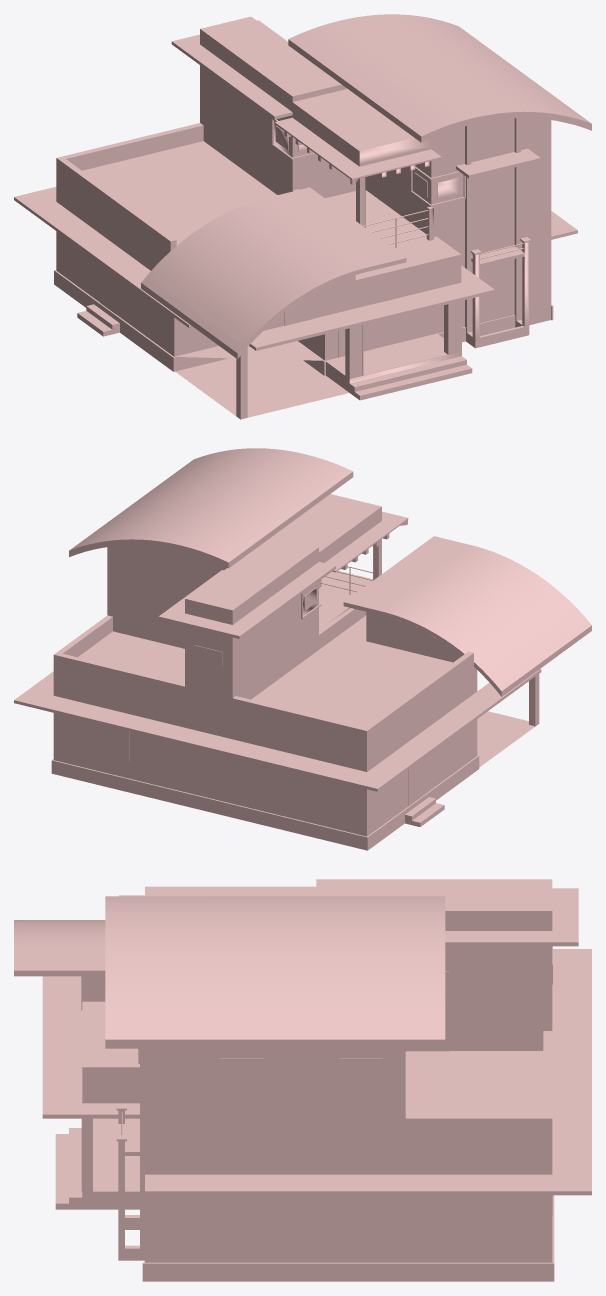
Rendered from houseobj.gltf.
3 renders of one model, top to bottom at view 1: azimuth 30°, elevation 25°; view 2: azimuth 150°, elevation 25°; view 3: azimuth 270°, elevation 25°, orthographic. The views are drawn at different scales.
Parts seen in each view (by area): view 1: Object01, Object02, Object06, Object54, Object03, Object88, Object93, Object78, Object87, Object14, Object76, Object38 (+30 smaller); view 2: Object03, Object06, Object01, Object02, Object54, Object43, Object97, Object88, Object78, Object76, Object38, Object87 (+12 smaller); view 3: Object02, Object03, Object06, Object43, Object38, Object54, Object40, Object88, Object72, Object95, Object01, Object90 (+20 smaller).
Part boxes in pixels (left/top/right/bottom): Object01: left=151, top=191, right=396, bottom=343; Object02: left=298, top=17, right=581, bottom=130; Object06: left=200, top=65, right=464, bottom=238; Object54: left=82, top=141, right=426, bottom=245; Object03: left=56, top=177, right=464, bottom=360; Object88: left=200, top=16, right=347, bottom=111; Object93: left=175, top=358, right=348, bottom=417; Object78: left=56, top=123, right=203, bottom=255; Object87: left=292, top=89, right=431, bottom=164; Object14: left=521, top=119, right=551, bottom=325; Object76: left=141, top=187, right=406, bottom=359; Object38: left=288, top=14, right=591, bottom=142; Object03: left=53, top=669, right=477, bottom=836; Object06: left=107, top=545, right=318, bottom=715; Object01: left=353, top=540, right=582, bottom=682; Object02: left=79, top=450, right=343, bottom=557; Object54: left=78, top=591, right=452, bottom=727; Object43: left=14, top=669, right=541, bottom=791; Object97: left=53, top=755, right=479, bottom=850; Object88: left=185, top=536, right=318, bottom=624; Object78: left=232, top=651, right=473, bottom=748; Object76: left=343, top=536, right=591, bottom=696; Object38: left=69, top=448, right=353, bottom=568; Object87: left=273, top=494, right=381, bottom=562; Object02: left=114, top=898, right=436, bottom=1031; Object03: left=145, top=1142, right=552, bottom=1262; Object06: left=145, top=946, right=552, bottom=1142; Object43: left=145, top=949, right=591, bottom=1195; Object38: left=105, top=896, right=445, bottom=1048; Object54: left=405, top=1051, right=543, bottom=1114; Object40: left=142, top=1262, right=554, bottom=1281; Object88: left=316, top=879, right=552, bottom=930; Object72: left=42, top=976, right=82, bottom=1103; Object95: left=405, top=1115, right=552, bottom=1142; Object01: left=22, top=920, right=105, bottom=966; Object90: left=445, top=888, right=578, bottom=946.
Size of the model in its own units: 262 by 151 by 262.
